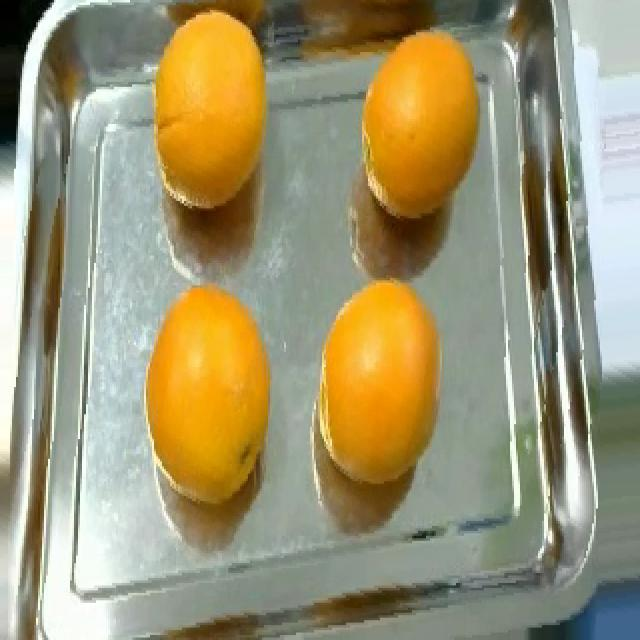Fruit: (344, 10, 494, 218), (140, 273, 280, 471), (134, 0, 270, 203), (314, 273, 452, 432)
